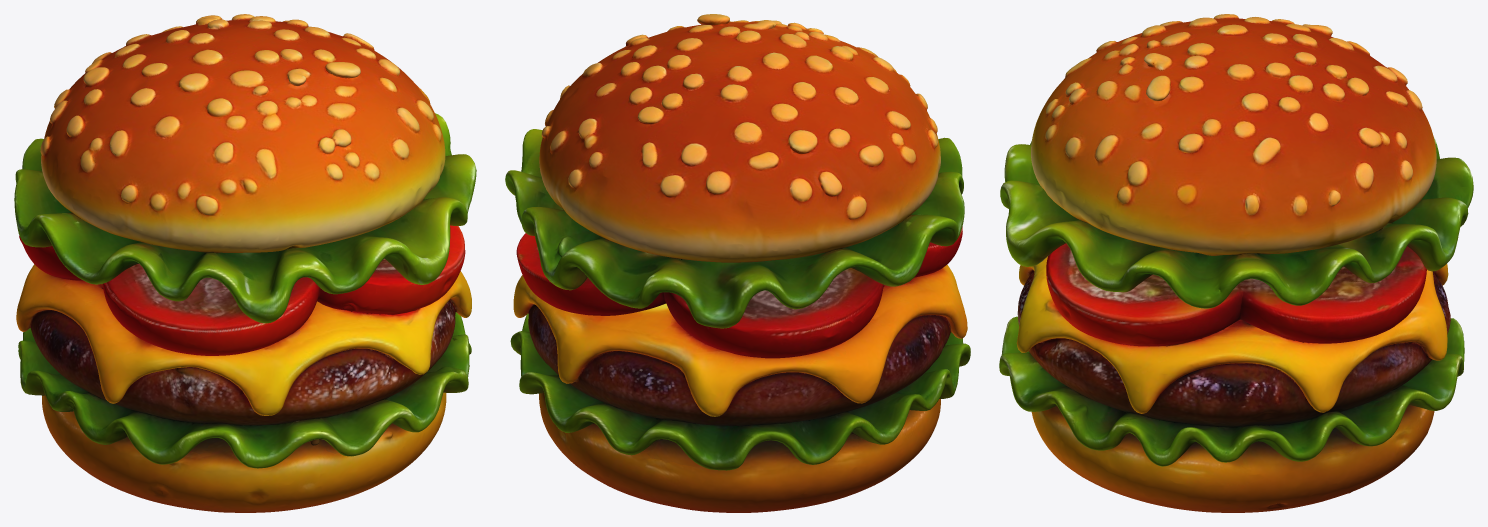
File: tripo_convert_3a56071f-4859-41b1-9959-6ff7341a6e31.fbx
3 renders of one model, left to right at view 1: azimuth 30°, elevation 25°; view 2: azimuth 150°, elevation 25°; view 3: azimuth 270°, elevation 25°, orthographic.
Visible parts, largest first — view 1: tripo_node_3a56071f; view 2: tripo_node_3a56071f; view 3: tripo_node_3a56071f.
Part boxes in pixels (x1,y1,x2,y2): tripo_node_3a56071f: (14,14,476,512); tripo_node_3a56071f: (505,14,970,512); tripo_node_3a56071f: (999,14,1473,512).
Bounding box in the file's own units: 1 × 0.9902 × 0.9959.
